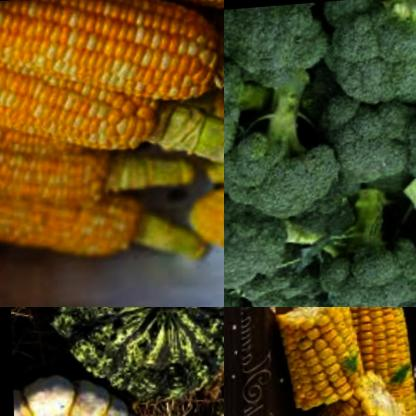broccoli: (225, 76, 338, 236), (308, 0, 416, 120), (224, 4, 339, 102), (354, 151, 416, 307), (224, 257, 368, 307), (224, 216, 293, 301), (224, 57, 245, 191)
corn: (0, 27, 224, 177), (0, 0, 224, 132), (0, 170, 139, 277), (0, 126, 131, 209), (274, 307, 366, 412), (329, 307, 416, 416), (298, 377, 396, 416), (181, 182, 224, 264), (144, 0, 224, 39)
squash-patisson: (46, 307, 224, 414), (11, 368, 153, 416)
